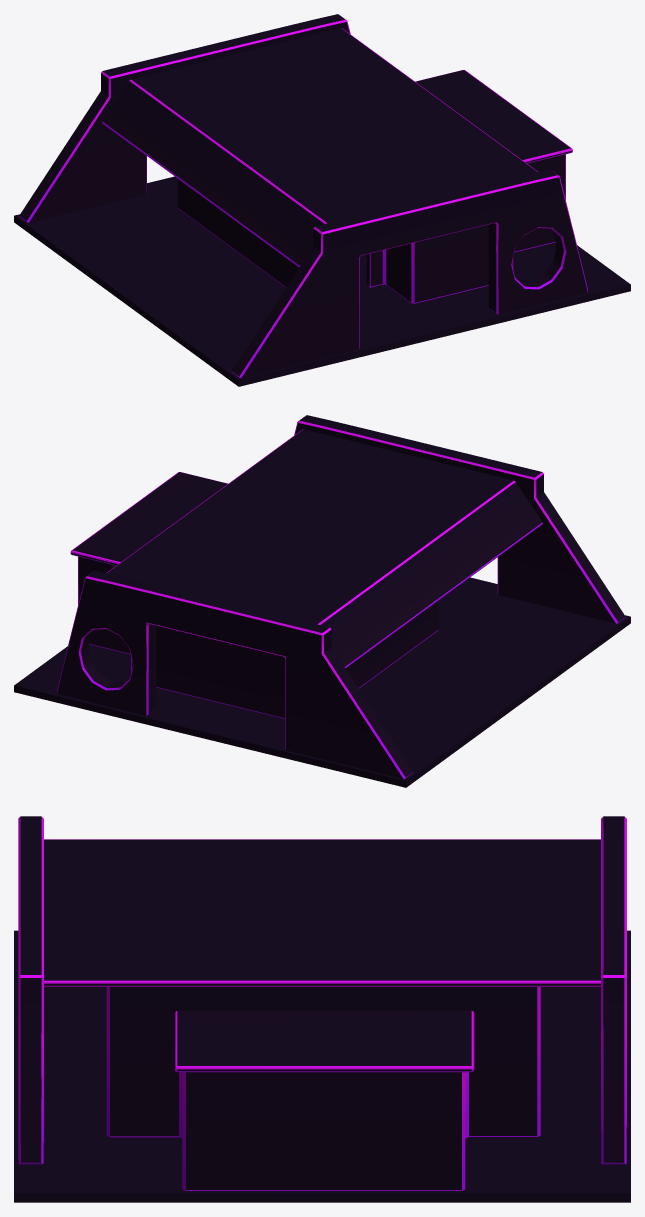
File: buildingColorTest2_4x.fbx
3 views of the same model, one above another, from view 1: azimuth 30°, elevation 25°; view 2: azimuth 150°, elevation 25°; view 3: azimuth 270°, elevation 25° (orthographic). The views are drawn at different scales.
Visible parts, largest first — view 1: concession_stand:polySurface2, ground, concession_stand:wall_redux1, wall_redux1, concession_stand:innerWall, concession_stand:pCube3; view 2: concession_stand:polySurface2, ground, wall_redux1, concession_stand:wall_redux1, concession_stand:innerWall, concession_stand:pCube3; view 3: concession_stand:polySurface2, concession_stand:innerWall, ground, concession_stand:pCube3, wall_redux1, concession_stand:wall_redux1.
Part boxes in pixels (box(x1,y1,x2,y2)): concession_stand:polySurface2: box(102, 28, 538, 267); ground: box(14, 176, 630, 386); concession_stand:wall_redux1: box(231, 169, 587, 377); wall_redux1: box(19, 14, 350, 222); concession_stand:innerWall: box(177, 154, 565, 303); concession_stand:pCube3: box(415, 70, 572, 163); concession_stand:polySurface2: box(106, 429, 542, 668); ground: box(14, 577, 630, 787); wall_redux1: box(56, 570, 413, 778); concession_stand:wall_redux1: box(294, 415, 625, 623); concession_stand:innerWall: box(78, 556, 438, 718); concession_stand:pCube3: box(70, 472, 227, 565); concession_stand:polySurface2: box(44, 839, 600, 986); concession_stand:innerWall: box(106, 987, 540, 1190); ground: box(14, 930, 630, 1202); concession_stand:pCube3: box(175, 1010, 474, 1072); wall_redux1: box(601, 816, 626, 1164); concession_stand:wall_redux1: box(18, 816, 43, 1164).
Bounding box in the file's own units: 201 × 64.46 × 199.
1 material, 1 textured.
